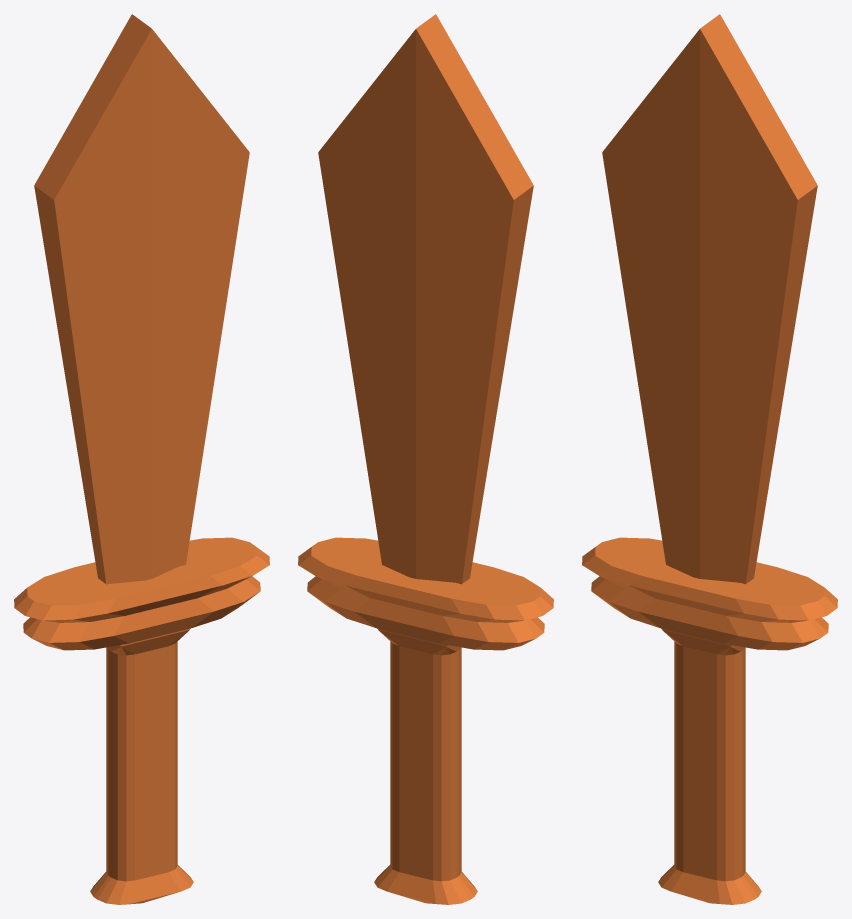
3 renders of one model, left to right at view 1: azimuth 30°, elevation 25°; view 2: azimuth 150°, elevation 25°; view 3: azimuth 330°, elevation 25°, orthographic.
Visible parts, largest first — view 1: Plane; view 2: Plane; view 3: Plane.
Boxes of the visible parts, x1,y1,x2,y2 form: Plane: (14,14,269,904); Plane: (298,14,553,904); Plane: (582,14,837,904).
Bounding box in the file's own units: 95.7 × 330 × 31.85.
